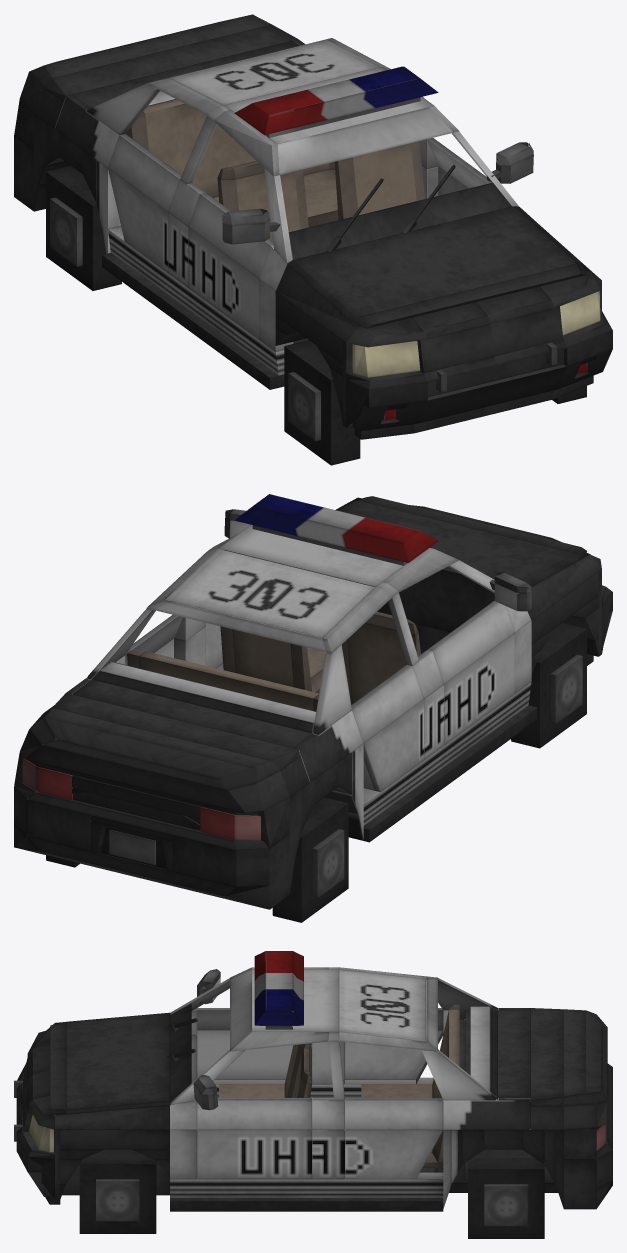
The model's file is wreckage_police3.obj.
3 views of the same model, one above another, from view 1: azimuth 30°, elevation 25°; view 2: azimuth 150°, elevation 25°; view 3: azimuth 270°, elevation 25° (orthographic). The views are drawn at different scales.
Parts seen in each view (by area): view 1: yourclassnameModel186, yourclassnameModel211, yourclassnameModel208, yourclassnameModel104, yourclassnameModel148, yourclassnameModel78, yourclassnameModel169, yourclassnameModel189, yourclassnameModel200, yourclassnameModel191, yourclassnameModel5, yourclassnameModel2 (+54 smaller); view 2: yourclassnameModel208, yourclassnameModel186, yourclassnameModel211, yourclassnameModel172, yourclassnameModel158, yourclassnameModel156, yourclassnameModel209, yourclassnameModel169, yourclassnameModel150, yourclassnameModel200, yourclassnameModel173, yourclassnameModel191 (+48 smaller); view 3: yourclassnameModel186, yourclassnameModel196, yourclassnameModel123, yourclassnameModel208, yourclassnameModel190, yourclassnameModel188, yourclassnameModel199, yourclassnameModel2, yourclassnameModel211, yourclassnameModel197, yourclassnameModel150, yourclassnameModel169 (+56 smaller).
Part boxes in pixels (x1,y1,x2,y2): yourclassnameModel186: (287,206,582,320); yourclassnameModel211: (234,66,438,135); yourclassnameModel208: (171,41,374,104); yourclassnameModel104: (288,182,511,259); yourclassnameModel148: (277,107,453,174); yourclassnameModel78: (143,99,329,197); yourclassnameModel169: (43,24,297,102); yourclassnameModel189: (284,340,360,465); yourclassnameModel200: (188,228,258,339); yourclassnameModel191: (46,165,121,290); yourclassnameModel5: (108,226,284,375); yourclassnameModel2: (102,253,284,389); yourclassnameModel208: (168,550,374,637); yourclassnameModel186: (335,500,582,586); yourclassnameModel211: (234,494,438,562); yourclassnameModel172: (29,717,254,790); yourclassnameModel158: (93,662,315,733); yourclassnameModel156: (20,729,263,812); yourclassnameModel209: (219,524,403,586); yourclassnameModel169: (45,693,300,770); yourclassnameModel150: (72,679,312,748); yourclassnameModel200: (444,633,514,744); yourclassnameModel173: (14,823,269,909); yourclassnameModel191: (272,797,348,922); yourclassnameModel186: (66,1012,170,1113); yourclassnameModel196: (197,1129,311,1179); yourclassnameModel123: (170,1172,443,1197); yourclassnameModel208: (339,970,425,1039); yourclassnameModel190: (468,1158,544,1238); yourclassnameModel188: (79,1153,156,1233); yourclassnameModel199: (345,1130,442,1179); yourclassnameModel2: (170,1168,443,1211); yourclassnameModel211: (254,951,303,1025); yourclassnameModel197: (197,1098,311,1129); yourclassnameModel150: (465,1010,530,1100); yourclassnameModel169: (531,1008,563,1106).
Size of the model in its own units: 3.3 by 2.61 by 6.84.
Materials: 1 (1 with a texture image).
